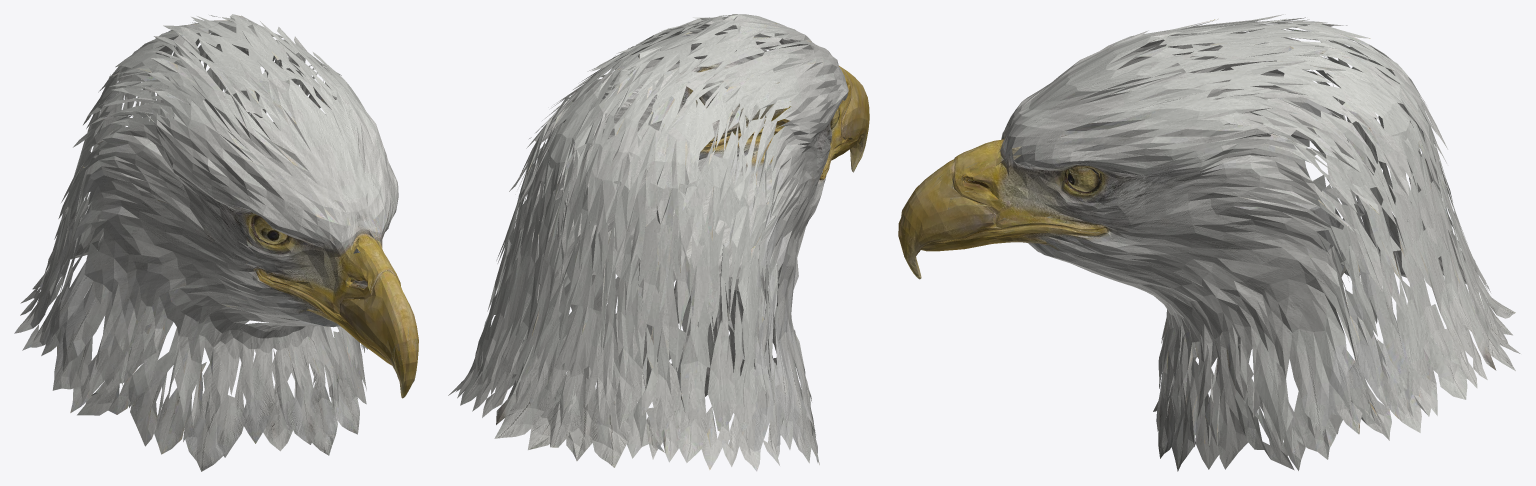
File: ewm_eaglehead.glb
3 renders of one model, left to right at view 1: azimuth 30°, elevation 25°; view 2: azimuth 150°, elevation 25°; view 3: azimuth 270°, elevation 25°, orthographic. The views are drawn at different scales.
Parts seen in each view (by area): view 1: ewm_eaglehead; view 2: ewm_eaglehead; view 3: ewm_eaglehead.
Part boxes in pixels (x1,y1,x2,y2): ewm_eaglehead: (14,14,418,471); ewm_eaglehead: (448,14,869,471); ewm_eaglehead: (898,14,1520,471).
Size of the model in its own units: 0.2973 by 0.3583 by 0.4964.
Materials: 1 (1 with a texture image).
